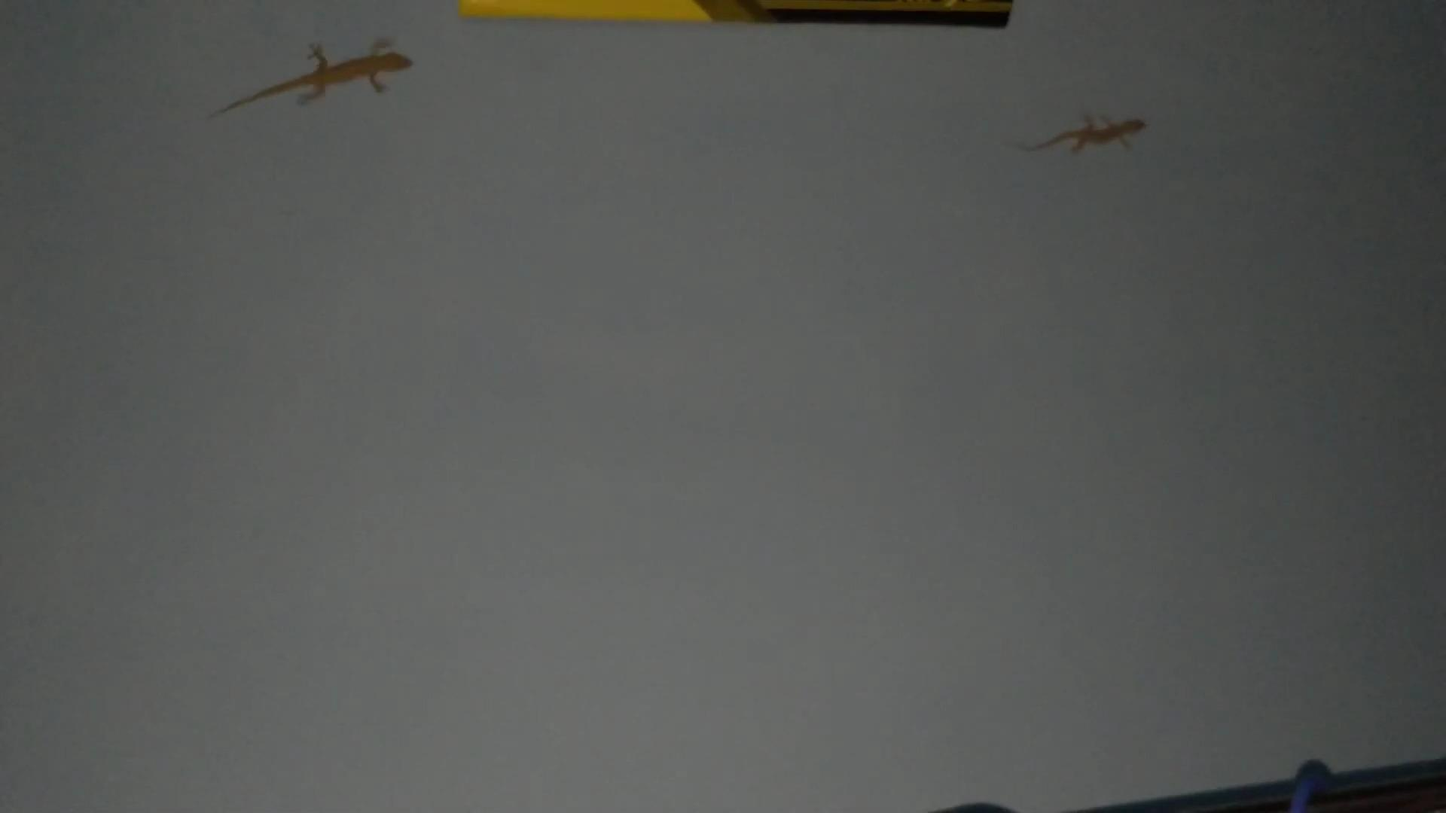lizard: (211, 12, 427, 128), (1015, 93, 1165, 176)
